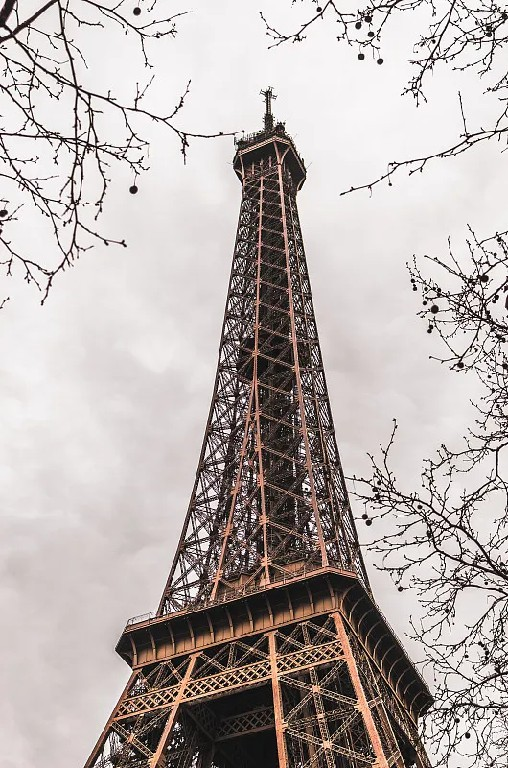Eiffel: (83, 88, 437, 768)
